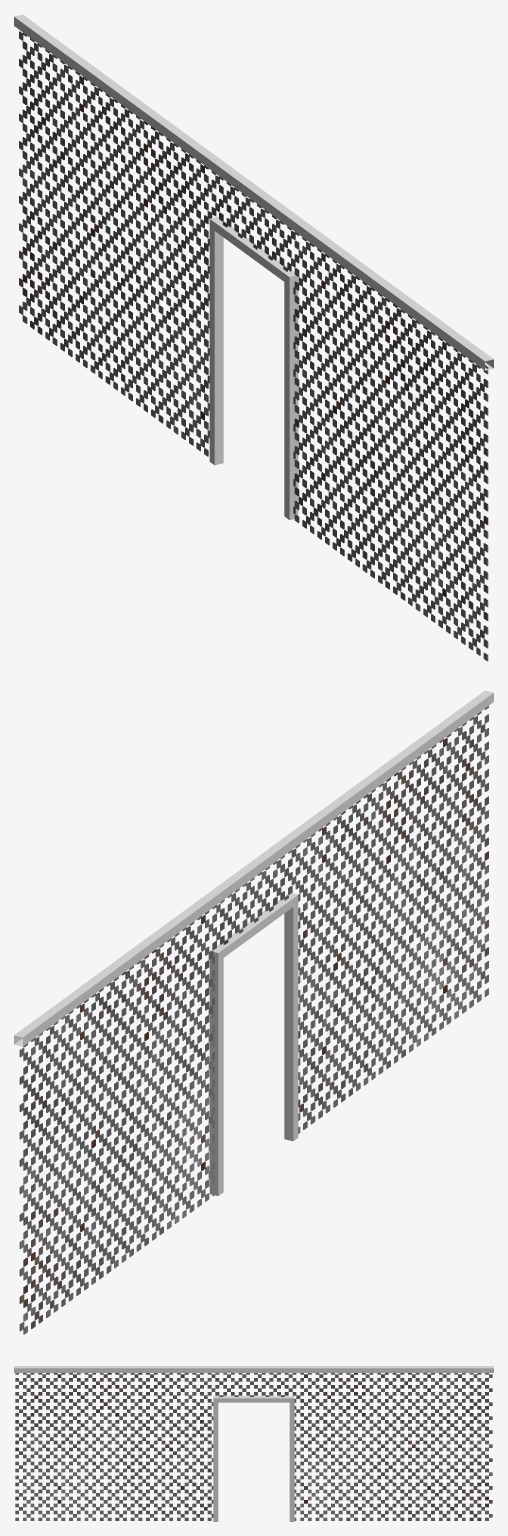
File: chainlink.fbx
3 views of the same model, one above another, from view 1: azimuth 30°, elevation 25°; view 2: azimuth 150°, elevation 25°; view 3: azimuth 270°, elevation 25° (orthographic). The views are drawn at different scales.
Parts seen in each view (by area): view 1: Plane.001, Cube.001, Cube; view 2: Plane.001, Cube.001, Cube; view 3: Plane.001, Cube.001, Cube.
Boxes of the visible parts, box(x1,y1,x2,y2) form: Plane.001: box(19, 31, 488, 661); Cube.001: box(14, 14, 493, 370); Cube: box(209, 216, 298, 519); Plane.001: box(19, 706, 488, 1334); Cube.001: box(14, 690, 493, 1046); Cube: box(209, 893, 298, 1195); Plane.001: box(15, 1373, 492, 1520); Cube.001: box(14, 1366, 493, 1372); Cube: box(213, 1396, 294, 1521).
Size of the model in its own units: 21.84 by 711 by 2011.
